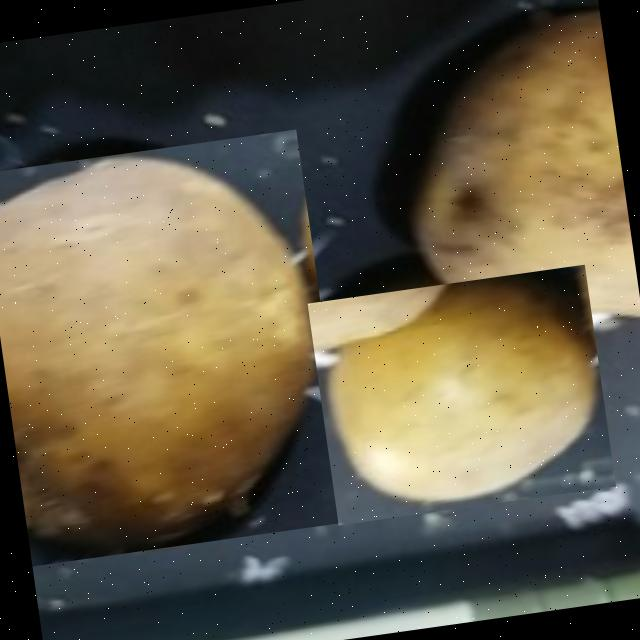Damaged potato: (0, 128, 350, 565), (379, 0, 640, 346)
Potato: (306, 264, 614, 524)
